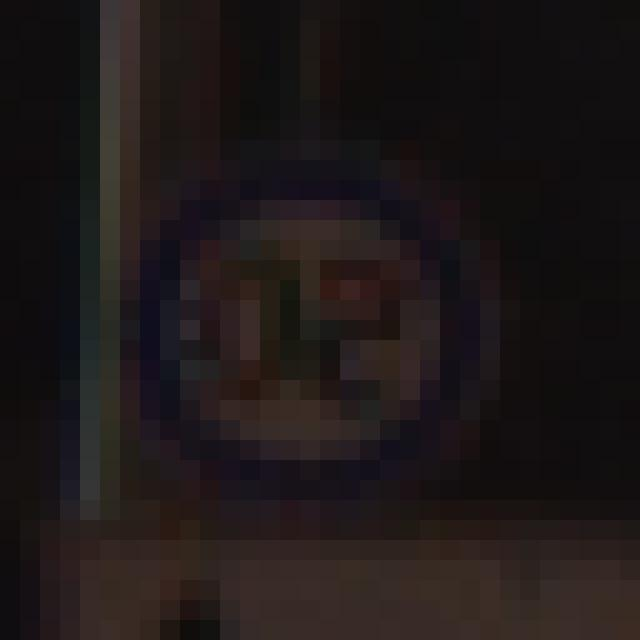SPEED LIMIT 50: (130, 172, 470, 494)
